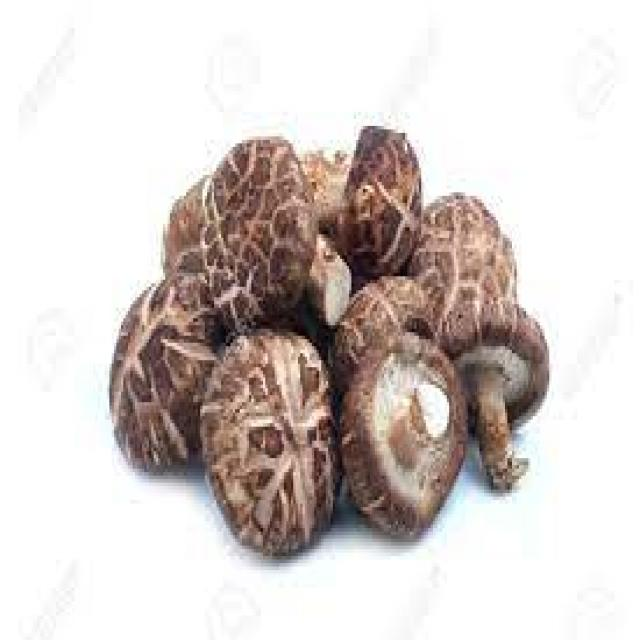Mushroom: (202, 336, 337, 556), (342, 332, 468, 539)
